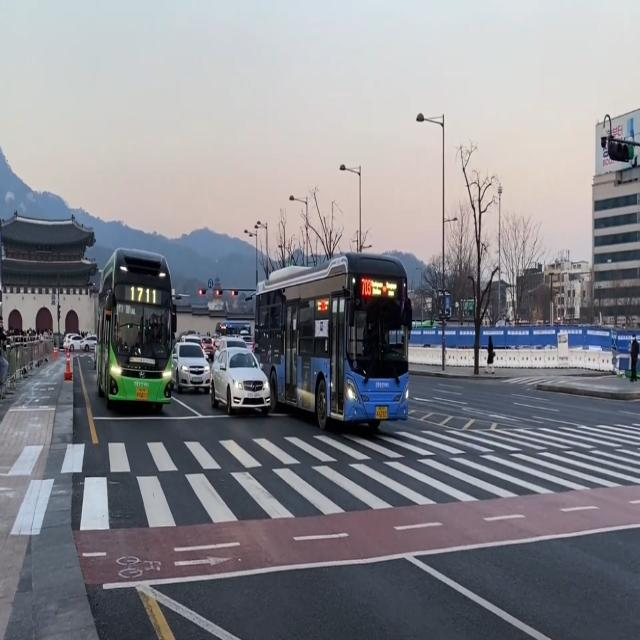bus-number: (130, 284, 157, 305), (361, 277, 372, 296)
